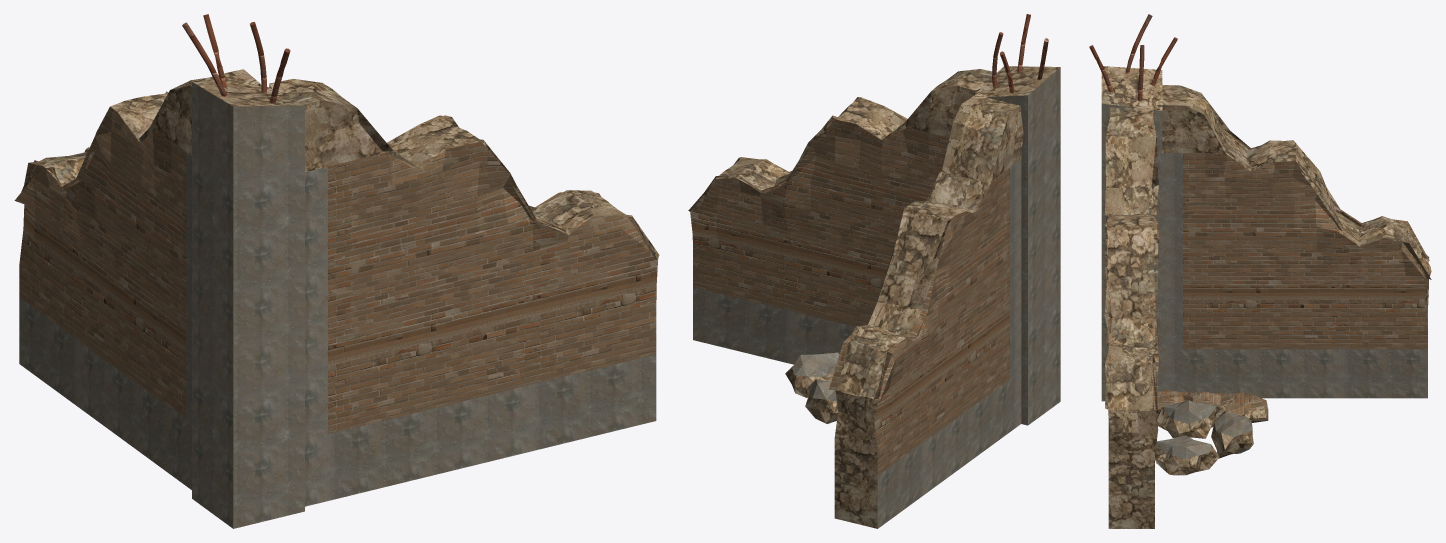
File: Wreckage_ConcreteCorner_Ruined.fbx
3 renders of one model, left to right at view 1: azimuth 30°, elevation 25°; view 2: azimuth 150°, elevation 25°; view 3: azimuth 270°, elevation 25°, orthographic. The views are drawn at different scales.
Parts seen in each view (by area): view 1: Wreckage_ConcreteCorner_Ruined; view 2: Wreckage_ConcreteCorner_Ruined; view 3: Wreckage_ConcreteCorner_Ruined.
Part boxes in pixels (<box>): Wreckage_ConcreteCorner_Ruined: <box>14,14,659,528</box>; Wreckage_ConcreteCorner_Ruined: <box>688,14,1060,528</box>; Wreckage_ConcreteCorner_Ruined: <box>1089,14,1431,528</box>.
Bounding box in the file's own units: 2.64 × 2.75 × 2.37.
Materials: 4 (4 with a texture image).
